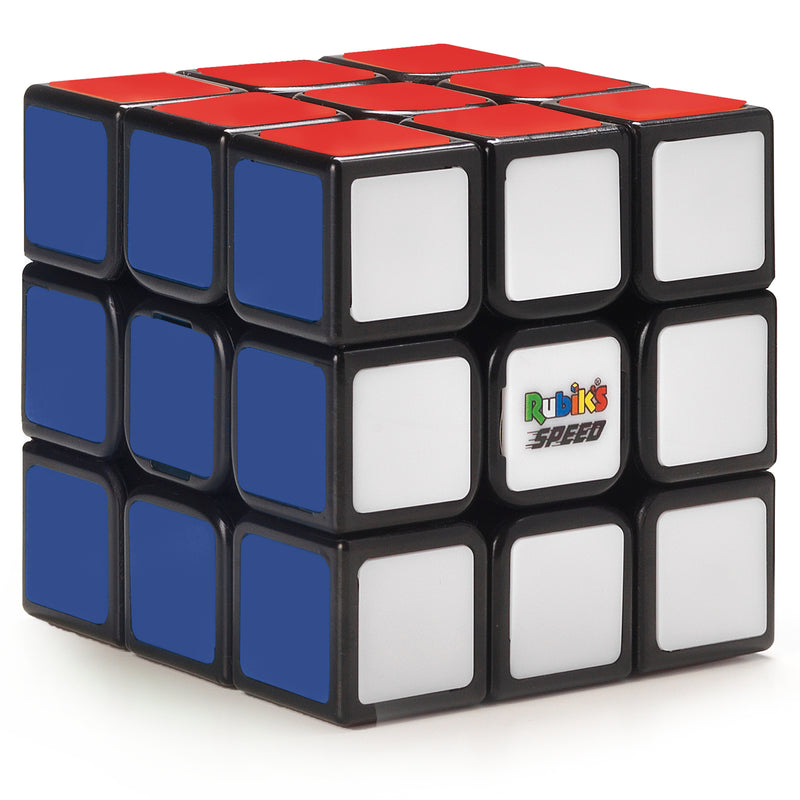cube: (5, 26, 790, 736)
